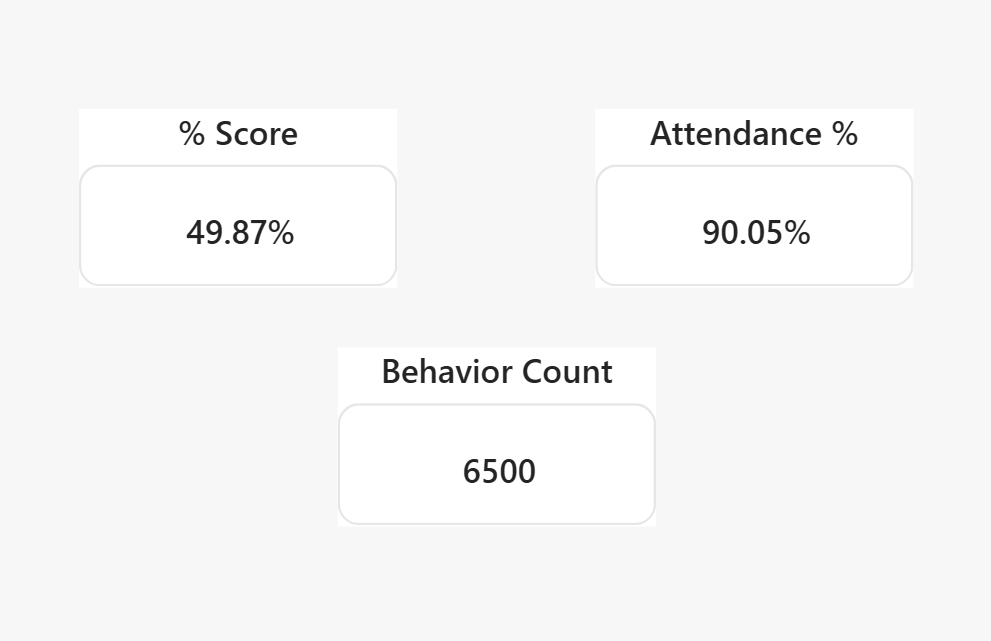

Layout of this report page (visuals, bound fields, positions):
{"tool":"powerbi","page":{"name":"Tooltip","canvas":[400,300],"ordinal":2},"visuals":[{"type":"cardVisual","title":"% Score","fields":{"Data":["Measures_Table.% Score"]},"box":[32,48,128,72],"z":0},{"type":"cardVisual","title":"Attendance %","fields":{"Data":["Measures_Table.Attendance_%"]},"box":[240,48,128,72],"z":1000},{"type":"cardVisual","title":"Behavior Count","fields":{"Data":["CountNonNull(Behavior.BehaviorType)"]},"box":[136,144,128,72],"z":1001}]}

Visuals, with their boxes on the page's 400x300 design canvas (x1, y1, x2, y2). These are canvas units, not pixel positions in the 991x641 screenshot, which may show the page scaled, cropped or inside an application window:
"% Score" cardVisual: 32,48,160,120
"Attendance %" cardVisual: 240,48,368,120
"Behavior Count" cardVisual: 136,144,264,216
